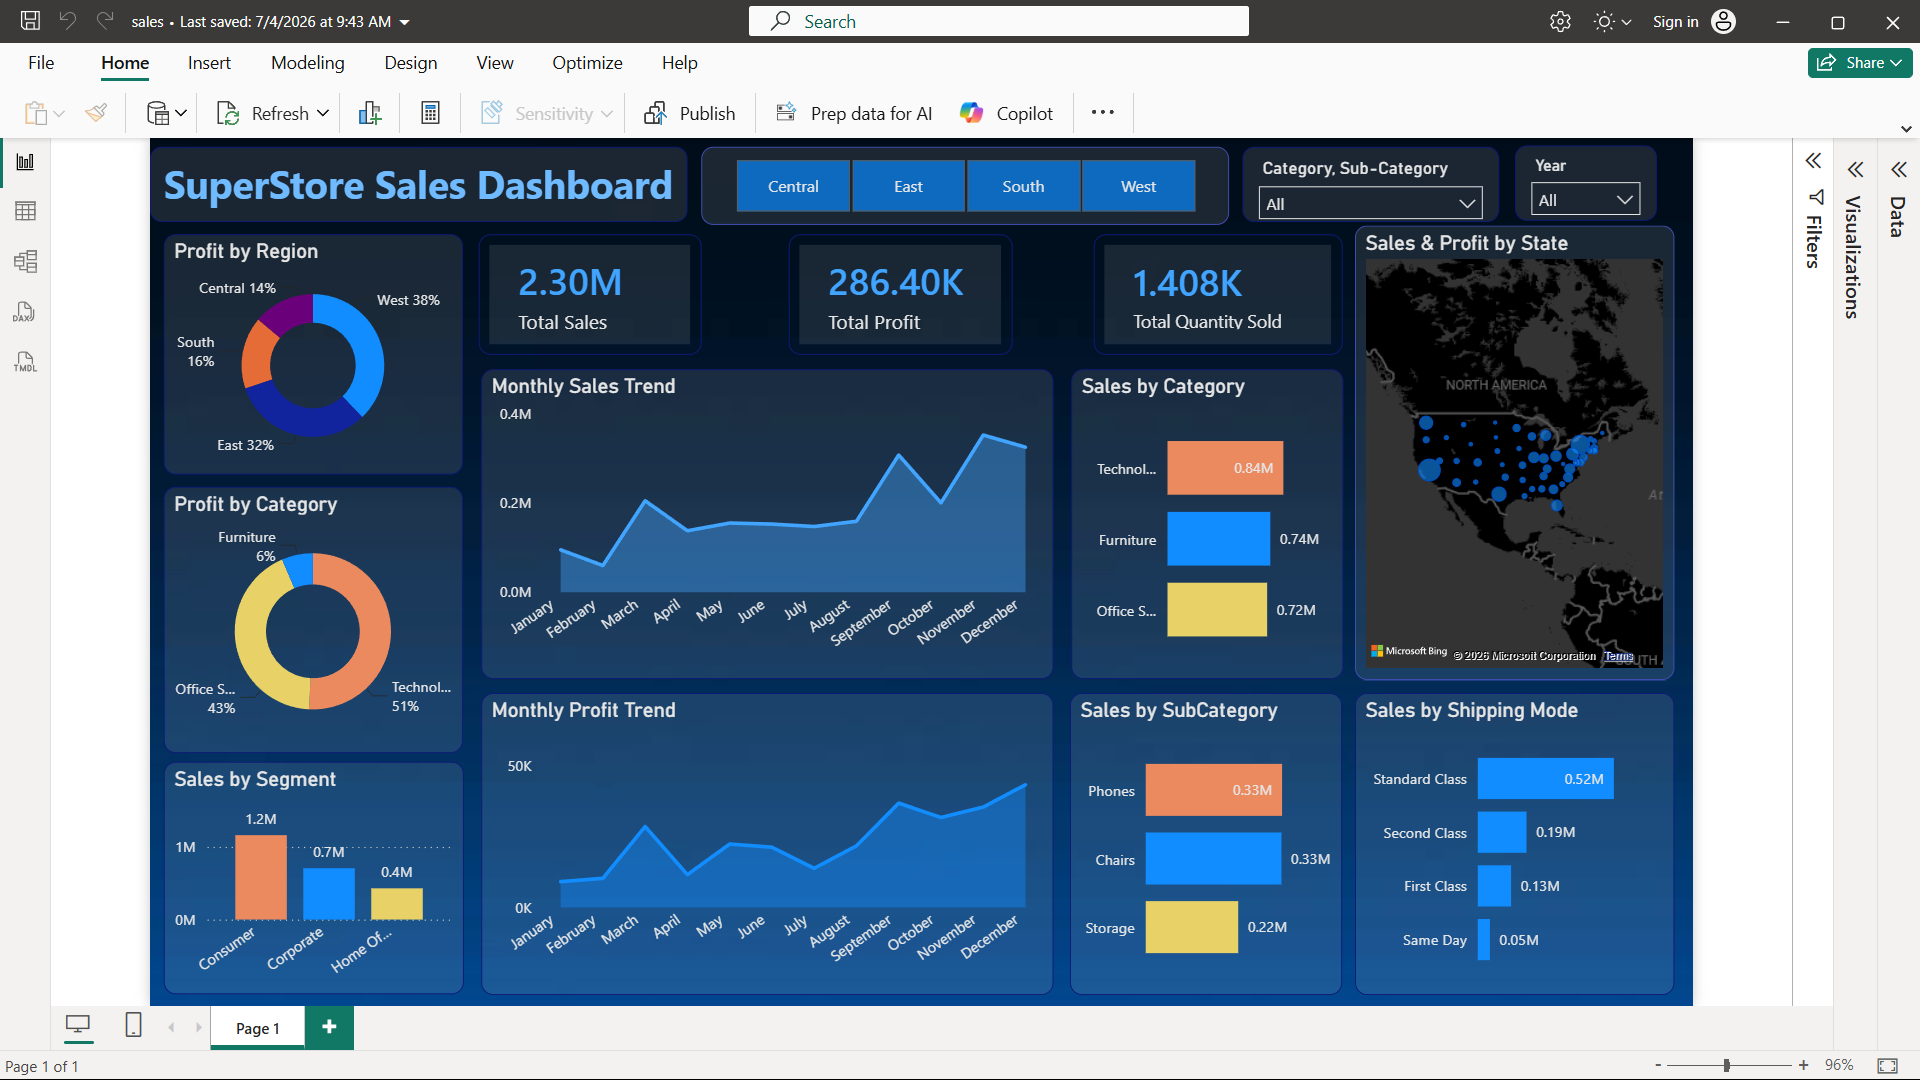

Layout of this report page (visuals, bound fields, positions):
{"tool":"powerbi","page":{"name":"Page 1","canvas":[1280,720],"ordinal":0},"visuals":[{"type":"textbox","box":[0,7,445.4,62.8],"z":0},{"type":"slicer","fields":{"Values":["Table1.Order Date.Variation.Date Hierarchy.Year"]},"box":[1131.4,5.8,117.4,62.8],"z":1000},{"type":"slicer","fields":{"Values":["Table1.Region"]},"box":[457,7,437.2,65.1],"z":2000},{"type":"slicer","fields":{"Values":["Table1.Category","Table1.Sub-Category"]},"box":[905.8,7,212.8,62.8],"z":3000},{"type":"clusteredBarChart","title":"Sales by Category","fields":{"Category":["Table1.Category"],"Y":["Sum(Table1.Sales)"]},"box":[763.3,192.2,225.6,256.7],"z":4000},{"type":"clusteredBarChart","title":"Sales by SubCategory","fields":{"Y":["Sum(Table1.Sales)"],"Category":["Table1.Sub-Category"]},"box":[762.8,460.5,225.6,250],"z":5000},{"type":"areaChart","title":"Monthly Sales Trend","fields":{"Category":["Table1.Order Date.Variation.Date Hierarchy.Month","Table1.Order Date.Variation.Date Hierarchy.Year"],"Y":["Sum(Table1.Sales)"]},"box":[274.4,191.9,474.4,257],"z":6000},{"type":"areaChart","title":"Monthly Profit Trend","fields":{"Category":["Table1.Order Date.Variation.Date Hierarchy.Month","Table1.Order Date.Variation.Date Hierarchy.Year"],"Y":["Sum(Table1.Profit)"]},"box":[274.4,460.5,474.4,250],"z":7000},{"type":"map","title":"Sales & Profit by State","fields":{"Category":["Table1.State"],"Size":["Sum(Table1.Sales)"]},"box":[998.9,72.2,264.4,376.7],"z":8000},{"type":"columnChart","title":"Sales by Segment","fields":{"Category":["Table1.Segment"],"Y":["Sum(Table1.Sales)"]},"box":[11.6,517.4,248.8,193],"z":9000},{"type":"clusteredBarChart","title":"Sales by Shipping Mode","fields":{"Y":["Sum(Table1.Sales)"],"Category":["Table1.Ship Mode"]},"box":[998.9,460,264.4,250],"z":10000},{"type":"donutChart","title":"Profit by Region","fields":{"Category":["Table1.Region"],"Y":["Sum(Table1.Profit)"]},"box":[11.6,80.2,247.7,198.8],"z":11000},{"type":"donutChart","title":"Profit by Category","fields":{"Category":["Table1.Category"],"Y":["Sum(Table1.Profit)"]},"box":[11.6,289.5,247.7,220.9],"z":12000},{"type":"cardVisual","fields":{"Data":["Sum(Table1.Sales)"]},"box":[272.1,80.2,184.9,100],"z":13000},{"type":"cardVisual","fields":{"Data":["Sum(Table1.Profit)"]},"box":[530,80,185.6,100],"z":14000},{"type":"cardVisual","fields":{"Data":["CountNonNull(Table1.Quantity)"]},"box":[782.2,80,206.7,100],"z":15000}]}

Visuals, with their boxes on the page's 1280x720 design canvas (x1, y1, x2, y2). These are canvas units, not pixel positions in the 1920x1080 screenshot, which may show the page scaled, cropped or inside an application window:
textbox: x1=0 y1=7 x2=445 y2=70
slicer - Table1.Order Date.Variation.Date Hierarchy.Year: x1=1131 y1=6 x2=1249 y2=69
slicer - Table1.Region: x1=457 y1=7 x2=894 y2=72
slicer - Table1.Category x Table1.Sub-Category: x1=906 y1=7 x2=1119 y2=70
"Sales by Category" clusteredBarChart: x1=763 y1=192 x2=989 y2=449
"Sales by SubCategory" clusteredBarChart: x1=763 y1=460 x2=988 y2=710
"Monthly Sales Trend" areaChart: x1=274 y1=192 x2=749 y2=449
"Monthly Profit Trend" areaChart: x1=274 y1=460 x2=749 y2=710
"Sales & Profit by State" map: x1=999 y1=72 x2=1263 y2=449
"Sales by Segment" columnChart: x1=12 y1=517 x2=260 y2=710
"Sales by Shipping Mode" clusteredBarChart: x1=999 y1=460 x2=1263 y2=710
"Profit by Region" donutChart: x1=12 y1=80 x2=259 y2=279
"Profit by Category" donutChart: x1=12 y1=290 x2=259 y2=510
cardVisual - Sum(Table1.Sales): x1=272 y1=80 x2=457 y2=180
cardVisual - Sum(Table1.Profit): x1=530 y1=80 x2=716 y2=180
cardVisual - CountNonNull(Table1.Quantity): x1=782 y1=80 x2=989 y2=180
